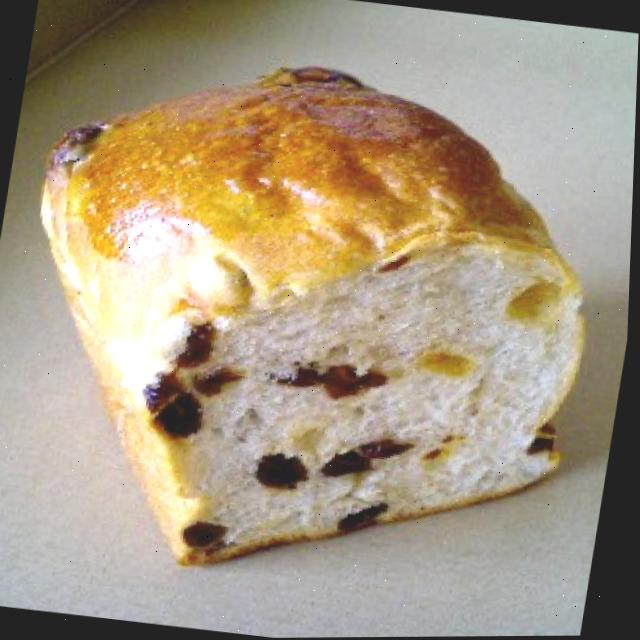面包点心: (0, 19, 631, 595)
